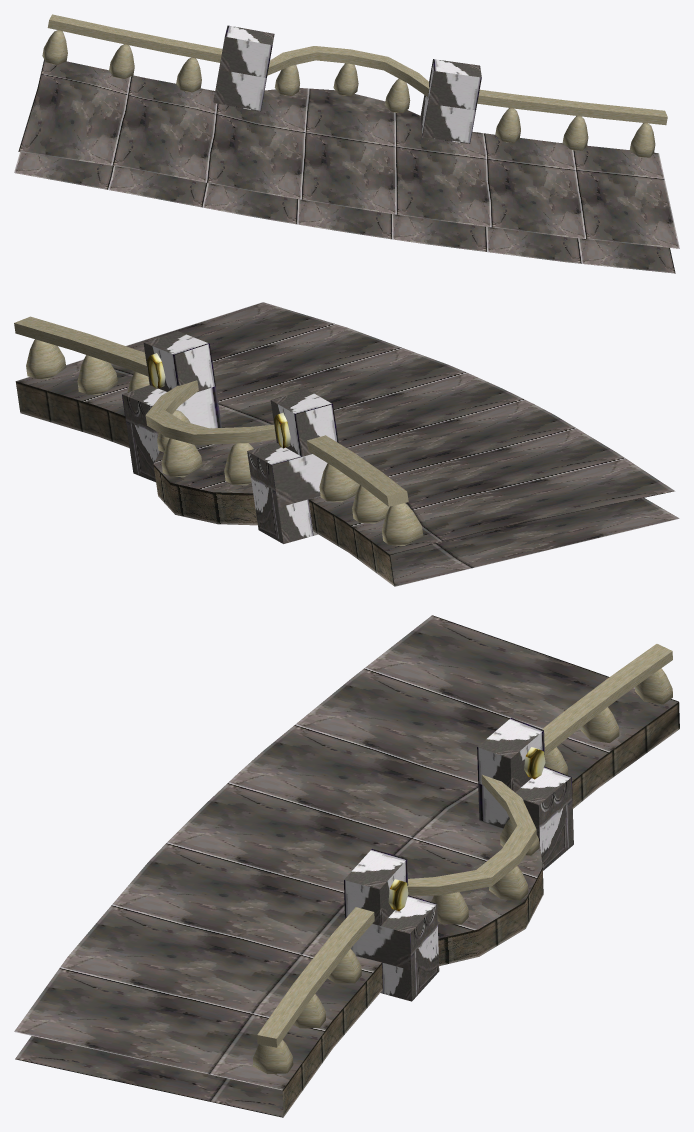
The model's file is CH09_SMAUG_PLAYSURFACE_LAIR16.obj.
The picture shows the model from 3 angles, top to bottom: view 1: azimuth 30°, elevation 25°; view 2: azimuth 150°, elevation 25°; view 3: azimuth 270°, elevation 25°; orthographic projection. The views are drawn at different scales.
Parts seen in each view (by area): view 1: lair16; view 2: lair16; view 3: lair16.
Boxes of the visible parts, x1,y1,x2,y2 form: lair16: (14, 14, 679, 273); lair16: (14, 302, 679, 586); lair16: (14, 615, 679, 1117).
Bounding box in the file's own units: 1544 × 399 × 1217.
